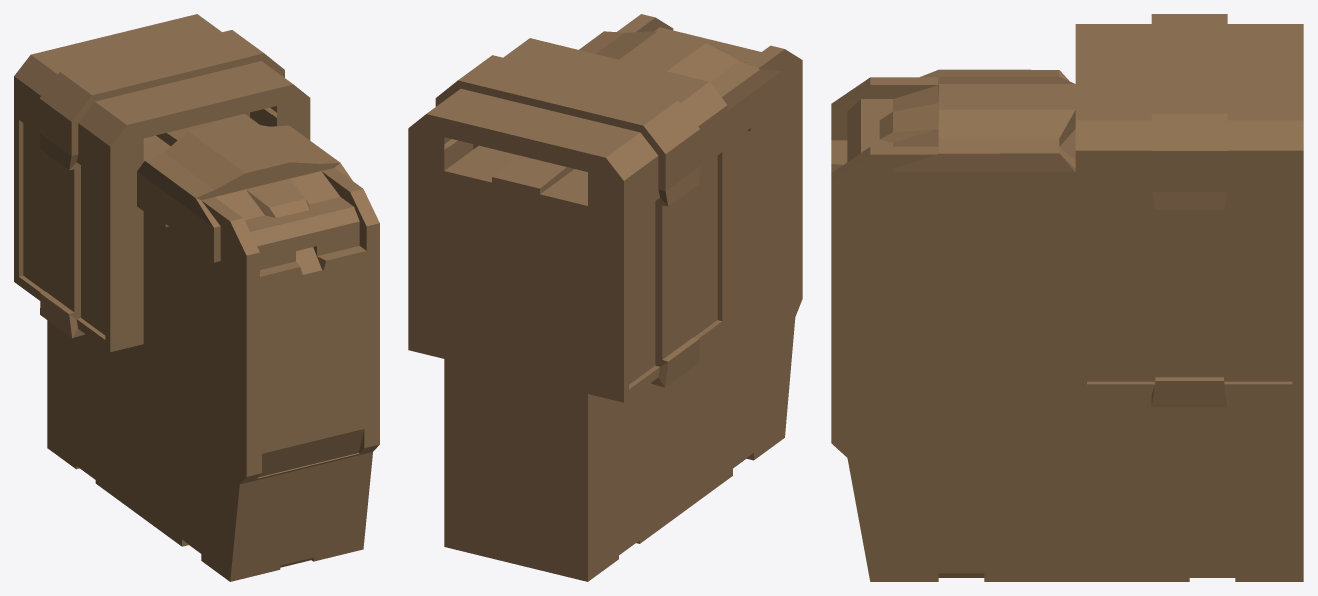
File: gabinete.fbx
3 renders of one model, left to right at view 1: azimuth 30°, elevation 25°; view 2: azimuth 150°, elevation 25°; view 3: azimuth 270°, elevation 25°, orthographic. The views are drawn at different scales.
Visible parts, largest first — view 1: mod_gabenette, sec_gabenette, sec_gabenette.001, sec_gabenette.002, sec_gabenette.003, sec_gabenette.004; view 2: mod_gabenette, sec_gabenette, sec_gabenette.002, sec_gabenette.003, sec_gabenette.001, sec_gabenette.004; view 3: mod_gabenette, sec_gabenette, sec_gabenette.002, sec_gabenette.003, sec_gabenette.001, sec_gabenette.004.
Part boxes in pixels (<box>): mod_gabenette: <box>47,114,372,581</box>; sec_gabenette: <box>14,14,310,352</box>; sec_gabenette.001: <box>156,122,379,484</box>; sec_gabenette.002: <box>39,30,284,338</box>; sec_gabenette.003: <box>137,120,352,262</box>; sec_gabenette.004: <box>215,171,359,274</box>; mod_gabenette: <box>444,59,795,581</box>; sec_gabenette: <box>408,38,727,402</box>; sec_gabenette.002: <box>435,55,700,387</box>; sec_gabenette.003: <box>579,31,781,147</box>; sec_gabenette.001: <box>492,14,802,316</box>; sec_gabenette.004: <box>654,27,761,63</box>; mod_gabenette: <box>847,168,1303,581</box>; sec_gabenette: <box>1075,24,1303,394</box>; sec_gabenette.002: <box>1151,14,1227,407</box>; sec_gabenette.003: <box>893,69,1075,213</box>; sec_gabenette.001: <box>831,77,1075,457</box>; sec_gabenette.004: <box>847,85,938,161</box>.
Size of the model in its own units: 64.46 by 116 by 104.
